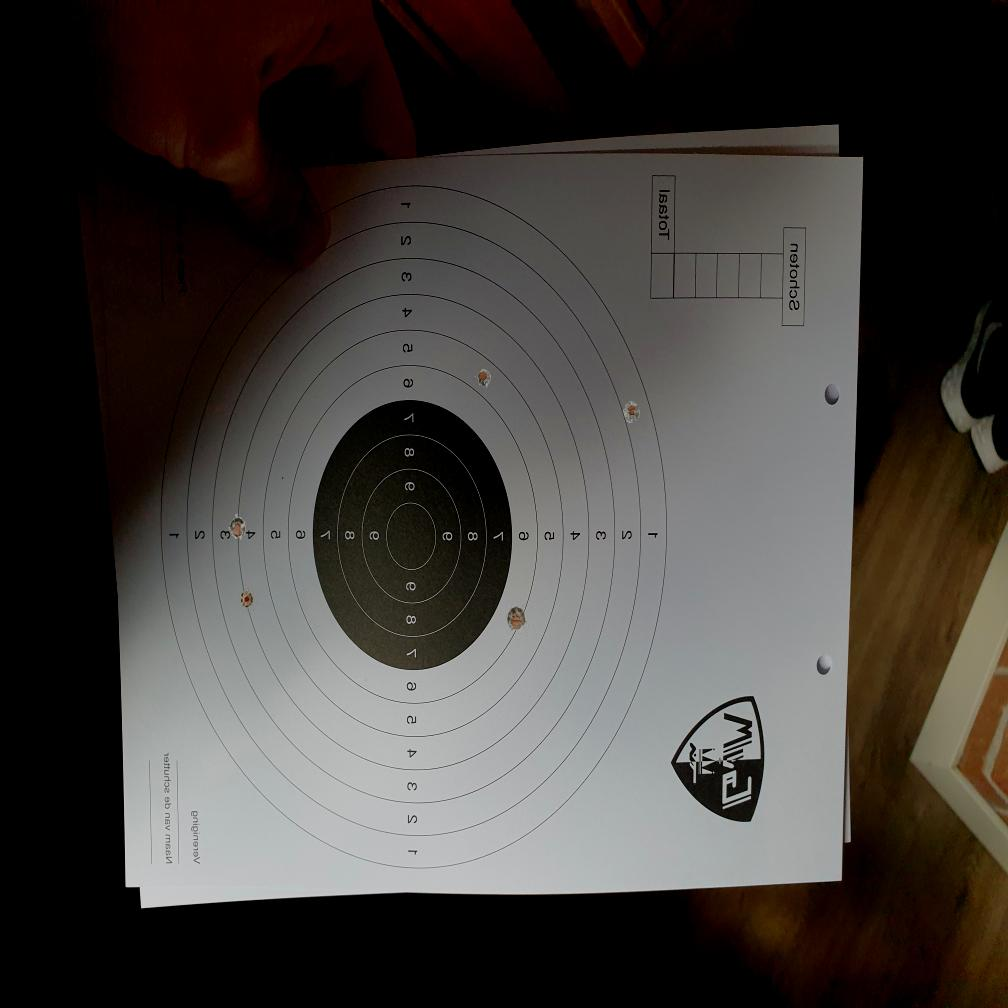1: (623, 401, 640, 423)
4: (228, 513, 246, 540), (240, 586, 255, 612)
5: (478, 368, 492, 388)
6: (506, 604, 525, 630)
Target: (160, 179, 668, 869)
black_contour: (313, 400, 512, 670)
